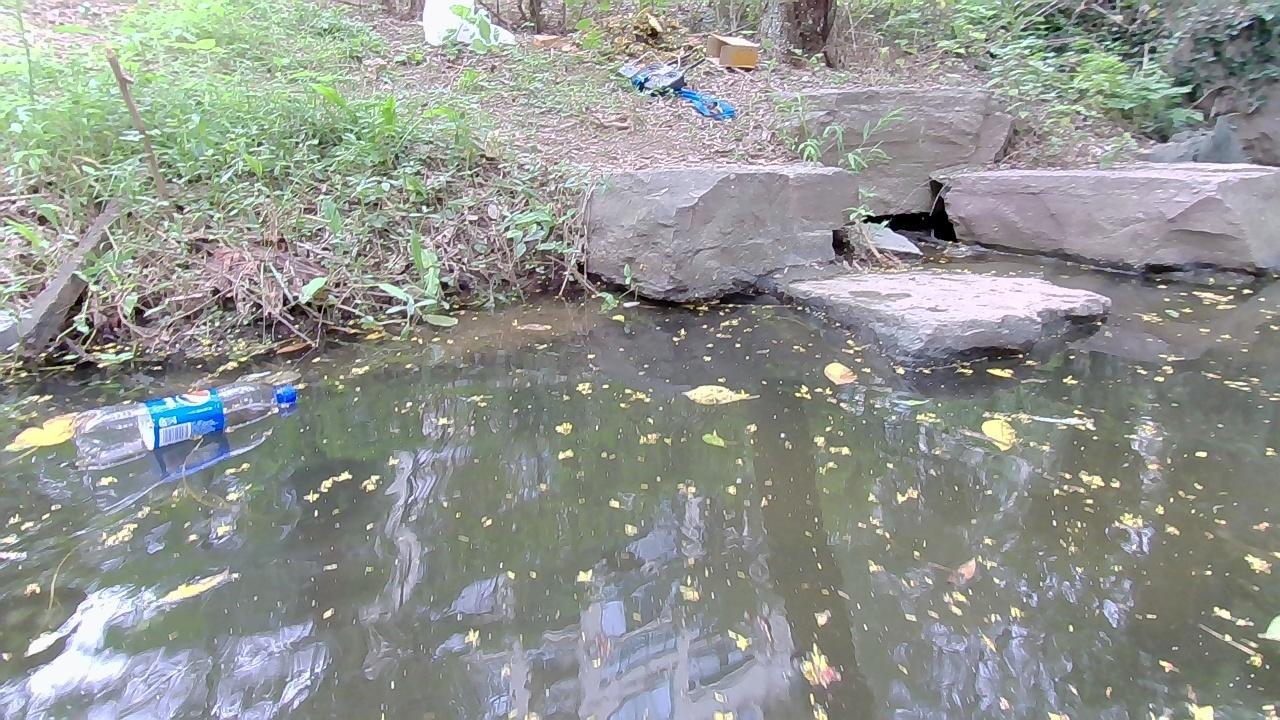bottle: (67, 380, 301, 479)
